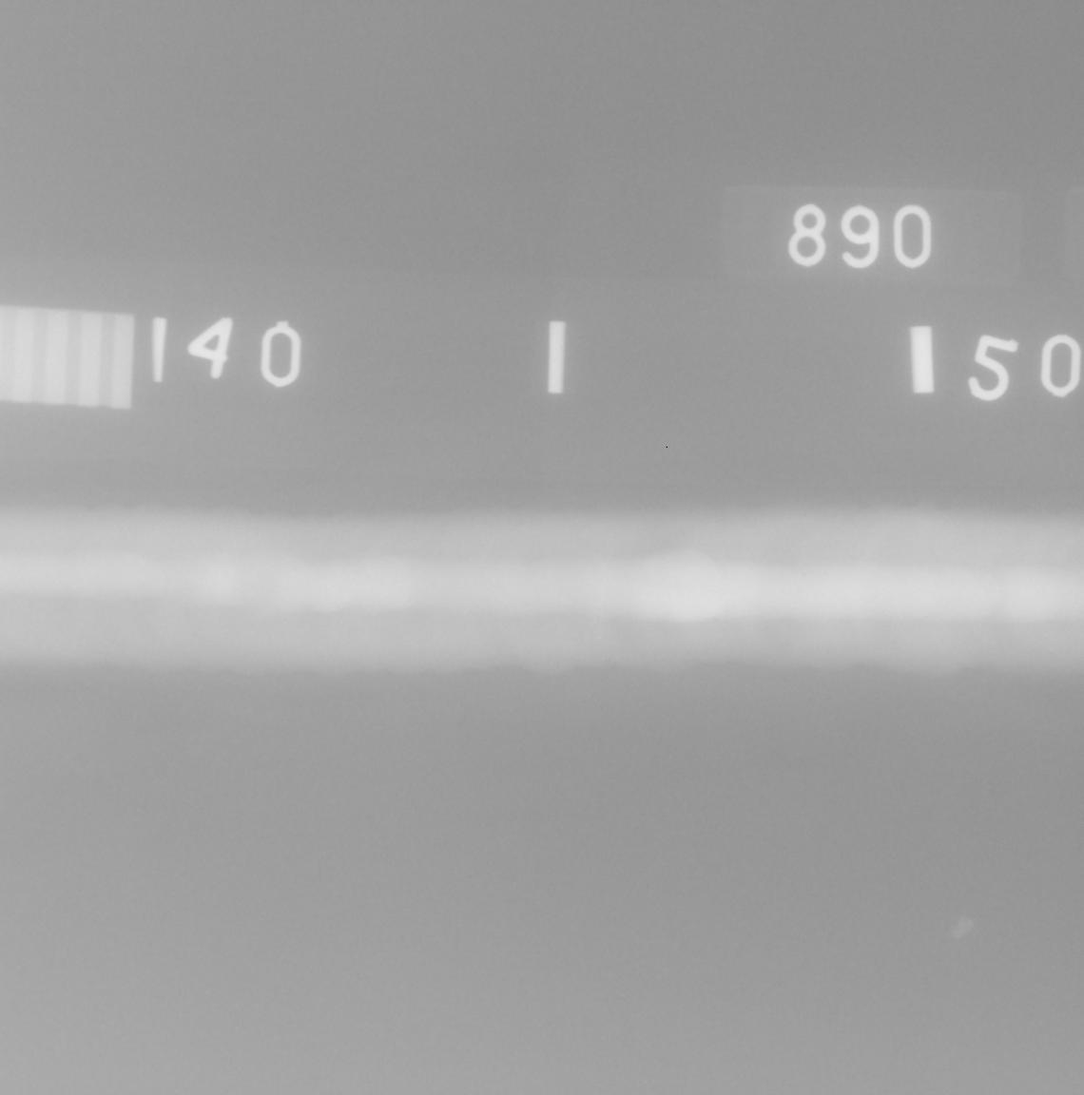Pore/Porosity: (711, 618, 719, 624), (802, 572, 806, 576)
